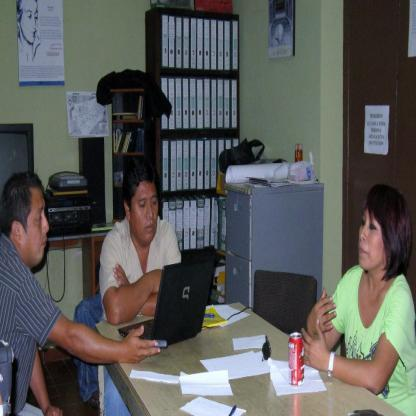board: (116, 258, 217, 351), (289, 332, 304, 386)
